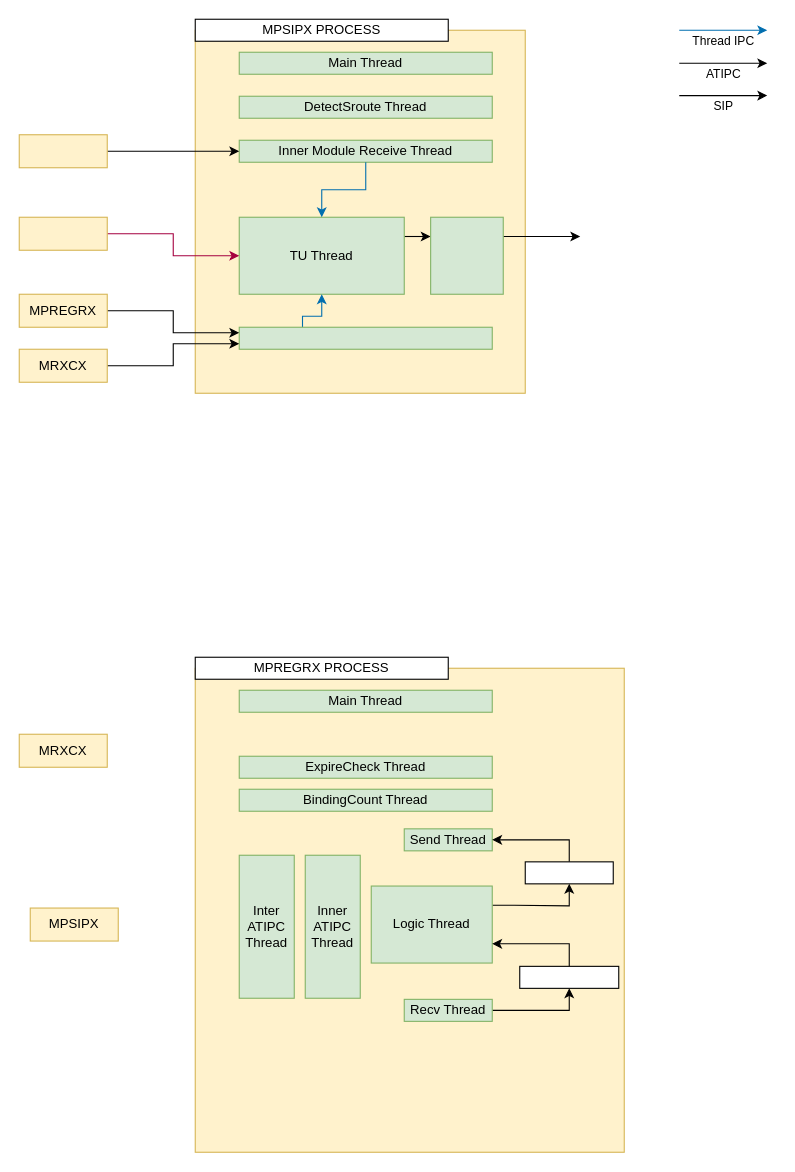
The diagram is 795 pixels wide and 1172 high, and some of its shapes have lost their labels. The centre of each missing label's shape, as x and y in pixels:
"Local Thread" belongs at point 466,255.
"MIPSECX" belongs at point 62,151.
"Outer Module Receive Thread" belongs at point 365,337.
"ReceiveQueue" belongs at point 569,976.
"SendQueue" belongs at point 568,872.
"UE" belongs at point 62,233.
